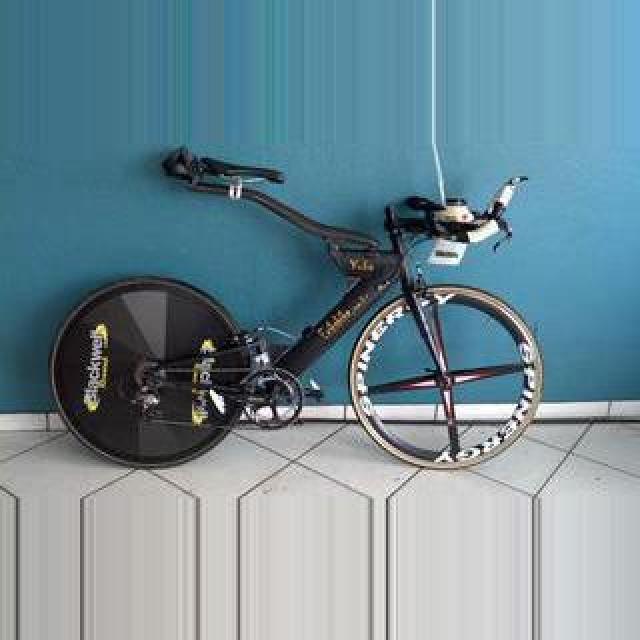Person: (28, 177, 552, 473)
